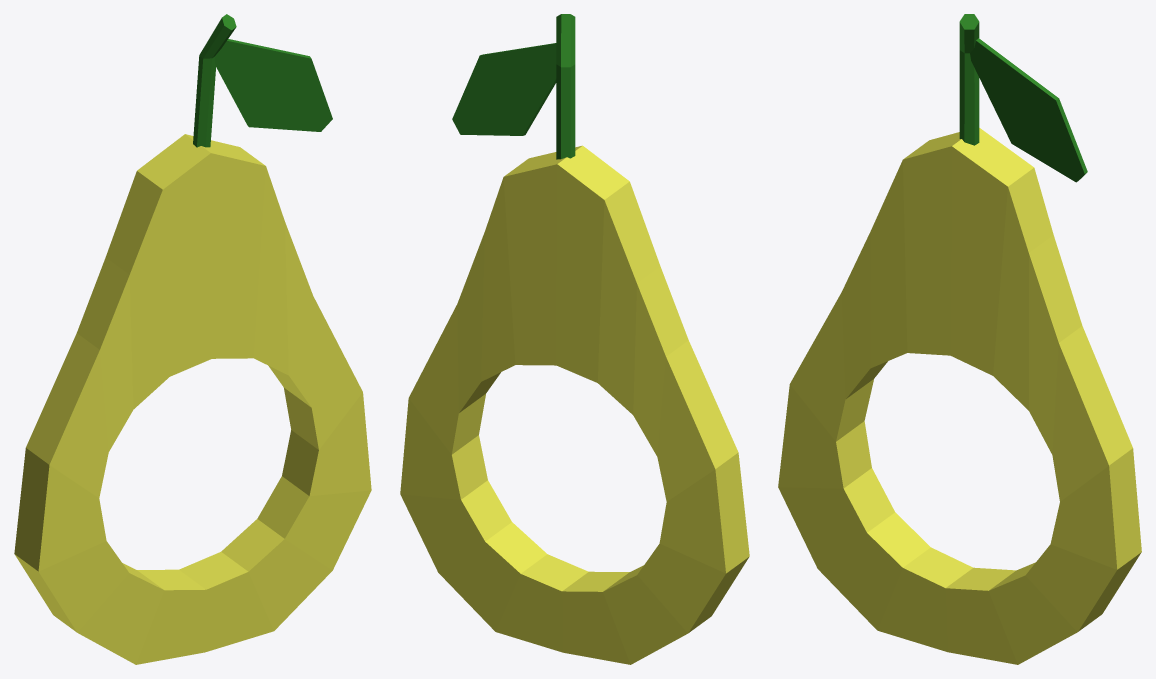
File: Birne.fbx
3 renders of one model, left to right at view 1: azimuth 30°, elevation 25°; view 2: azimuth 150°, elevation 25°; view 3: azimuth 330°, elevation 25°, orthographic. The views are drawn at different scales.
Visible parts, largest first — view 1: Cylinder.001; view 2: Cylinder.001; view 3: Cylinder.001.
Boxes of the visible parts, x1,y1,x2,y2 form: Cylinder.001: (14,14,371,664); Cylinder.001: (400,14,749,664); Cylinder.001: (778,14,1141,664).
Size of the model in its own units: 70.88 by 128 by 11.56.
